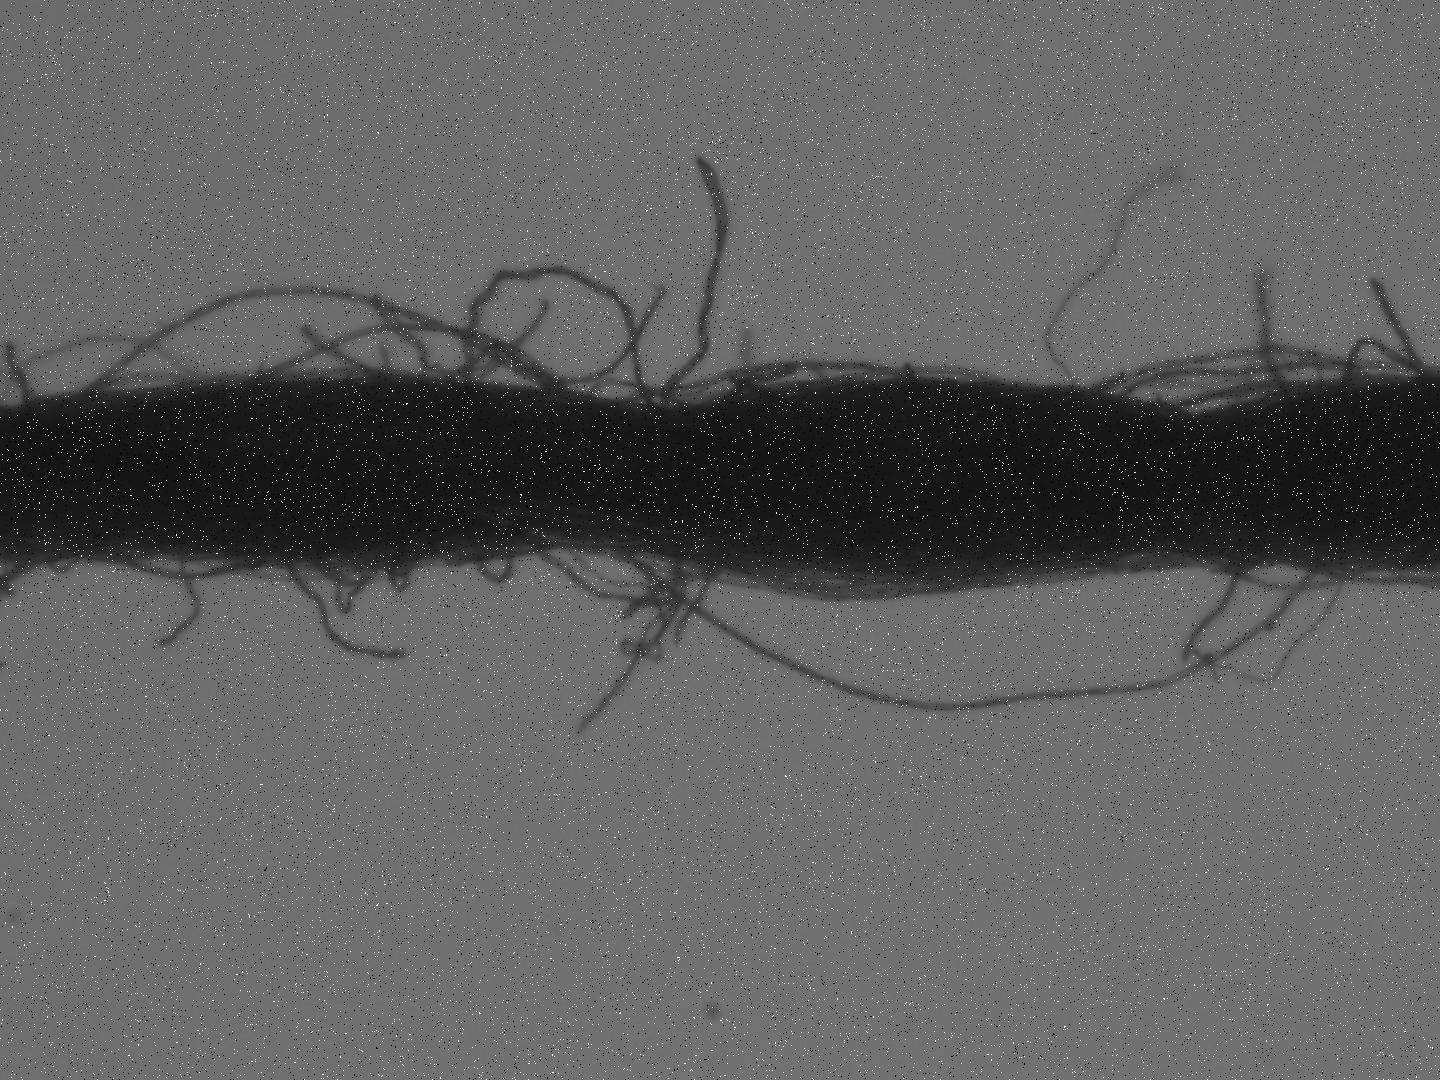loop_fiber: (626, 551, 1327, 719), (452, 260, 669, 421), (1153, 507, 1431, 600), (252, 320, 571, 396), (3, 329, 214, 411), (73, 534, 276, 587), (541, 541, 688, 607), (313, 550, 441, 611), (1174, 373, 1329, 408), (466, 516, 532, 590), (1340, 335, 1434, 386), (584, 376, 692, 413)
protruding_fiber: (653, 153, 738, 394), (1364, 271, 1431, 380)
